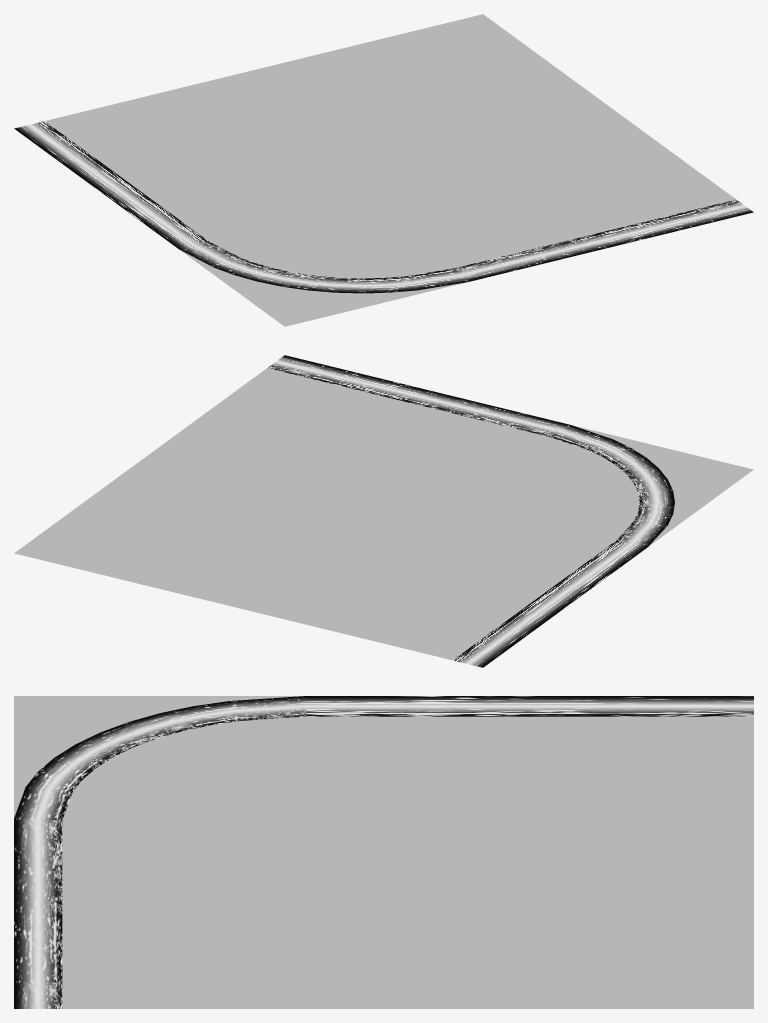
File: Floor_Tile_CornerDNLEFT.fbx
The picture shows the model from 3 angles, top to bottom: view 1: azimuth 30°, elevation 25°; view 2: azimuth 150°, elevation 25°; view 3: azimuth 270°, elevation 25°; orthographic projection. The views are drawn at different scales.
Parts seen in each view (by area): view 1: Floor_Tile_CornerDNLEFT; view 2: Floor_Tile_CornerDNLEFT; view 3: Floor_Tile_CornerDNLEFT.
Boxes of the visible parts, left/top/right/bottom form: Floor_Tile_CornerDNLEFT: left=14, top=14, right=753, bottom=326; Floor_Tile_CornerDNLEFT: left=14, top=355, right=753, bottom=667; Floor_Tile_CornerDNLEFT: left=14, top=696, right=753, bottom=1008.
Size of the model in its own units: 330 by 2.02e-14 by 330.
